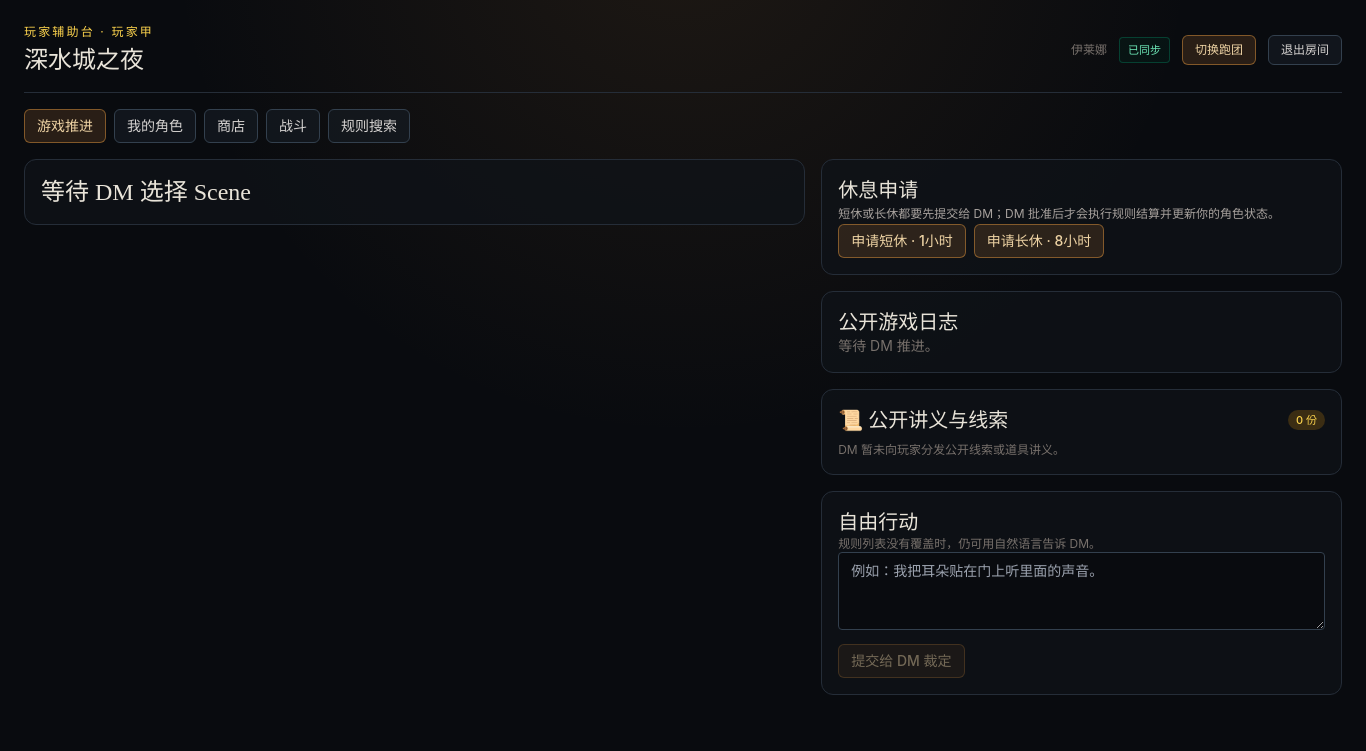
Test: PlayerPage › marks an ended battle read-only and keeps its public log visible
The width and height of the screenshot is (1366, 751).
What coordinates should you click on to do the following:
click the button "战斗"
I would click on:
 (293, 126)
Its box is 266,109 -> 320,143.
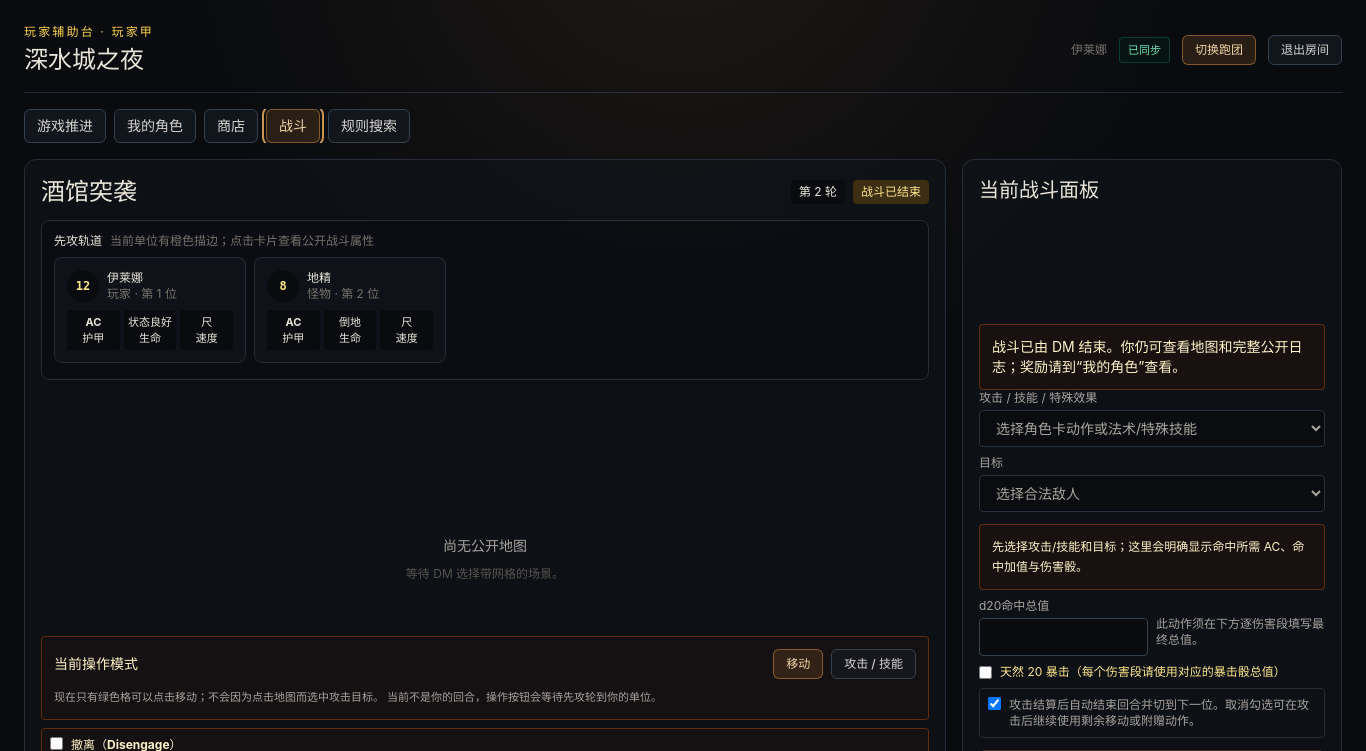
Expected: the text "战斗已结束" is shown, 853,180 -> 929,204
What coordinates should you click on to do the following:
click the button "我的角色"
I would click on:
 (155, 126)
Its box is 114,109 -> 196,143.
(page scrolled)
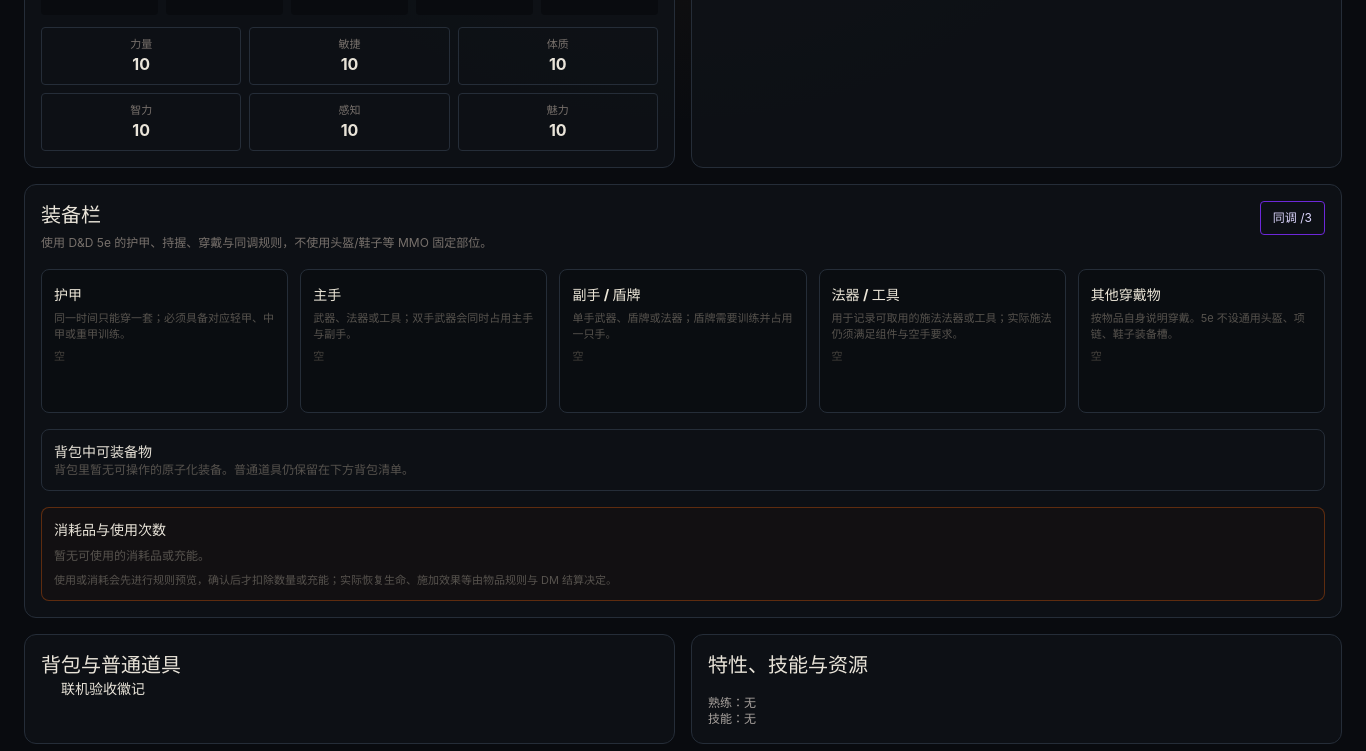
Expected: the list item "联机验收徽记" is shown, 61,680 -> 145,697
